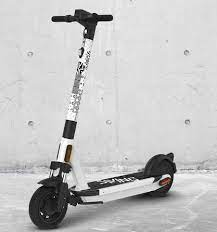kick_board: (30, 9, 177, 227)
kick_body: (29, 186, 68, 228), (145, 154, 176, 195)
kick_handler: (51, 9, 112, 39)
kick_neck: (56, 40, 94, 158)
